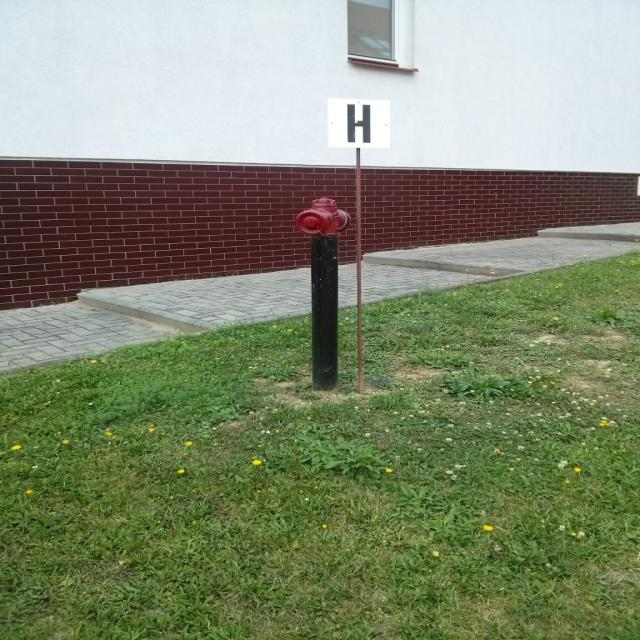fire_hydrant: (298, 195, 352, 388)
